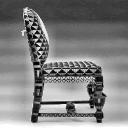chair_success: (12, 4, 110, 125)
